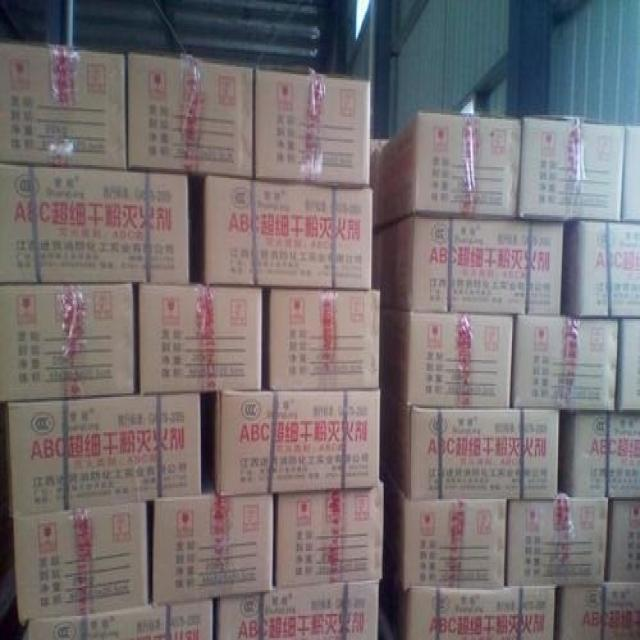box: (8, 391, 202, 518), (0, 165, 189, 286), (198, 176, 374, 289), (383, 393, 559, 501), (376, 215, 564, 315), (212, 391, 381, 495), (125, 52, 253, 180), (378, 113, 522, 226), (13, 503, 148, 623), (0, 286, 137, 403), (381, 466, 506, 592), (0, 43, 125, 169), (152, 479, 274, 608), (253, 67, 371, 186), (138, 284, 264, 393), (383, 562, 554, 640), (381, 308, 513, 408), (262, 288, 380, 393), (518, 117, 625, 223), (274, 488, 384, 590), (512, 314, 620, 412), (506, 490, 608, 588), (214, 581, 378, 640), (20, 599, 214, 640), (562, 221, 640, 319), (559, 410, 640, 499), (554, 581, 640, 640)
